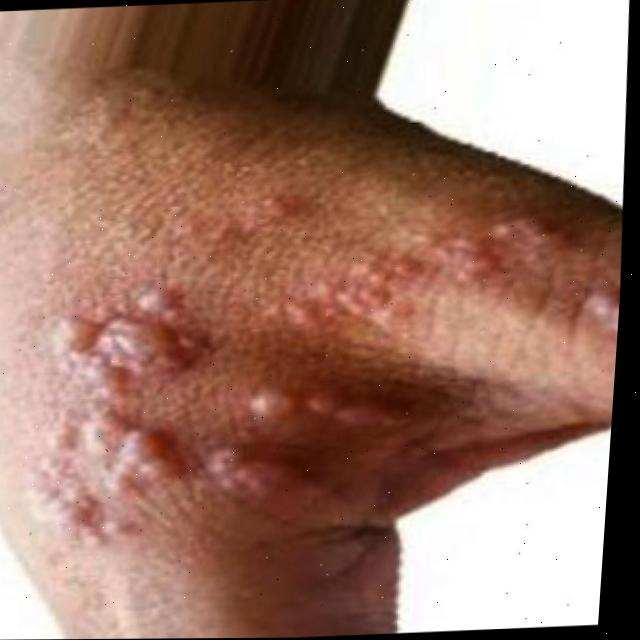Shingles: (36, 308, 355, 520), (358, 218, 535, 310), (590, 285, 621, 352)
